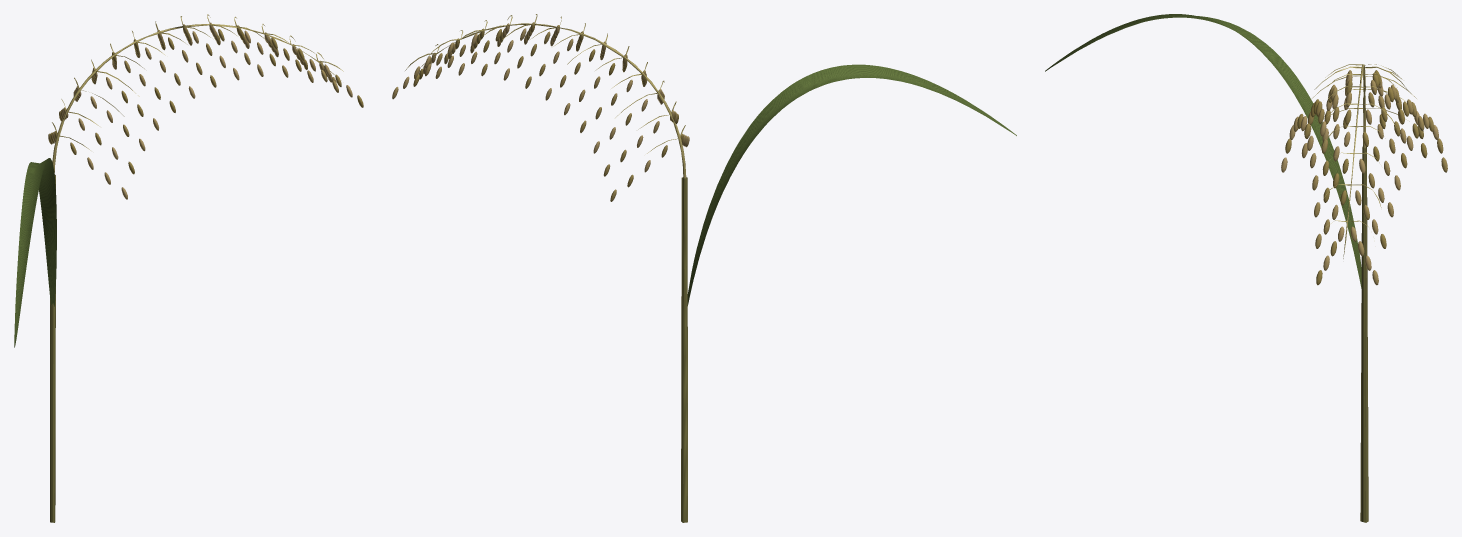
File: rice-macro-lite.glb
3 views of the same model, side by side, from view 1: azimuth 30°, elevation 25°; view 2: azimuth 150°, elevation 25°; view 3: azimuth 270°, elevation 25° (orthographic). The views are drawn at different scales.
Visible parts, largest first — view 1: grain, grass-leaf, rachis, stem; view 2: grass-leaf, grain, stem, rachis; view 3: grain, grass-leaf, stem, rachis.
Boxes of the visible parts, x1=… form: grain: x1=48, y1=22, x2=363, y2=199; grass-leaf: x1=14, y1=158, x2=56, y2=347; rachis: x1=52, y1=14, x2=343, y2=172; stem: x1=50, y1=174, x2=55, y2=522; grass-leaf: x1=687, y1=64, x2=1016, y2=305; grain: x1=392, y1=22, x2=689, y2=201; stem: x1=681, y1=177, x2=687, y2=522; rachis: x1=405, y1=14, x2=686, y2=178; grain: x1=1281, y1=70, x2=1447, y2=285; grass-leaf: x1=1045, y1=14, x2=1361, y2=288; stem: x1=1360, y1=146, x2=1368, y2=522; rachis: x1=1311, y1=64, x2=1416, y2=258.
Bounding box in the file's own units: 0.345 × 0.3243 × 0.2344.
Materials: 4 (3 with a texture image).
